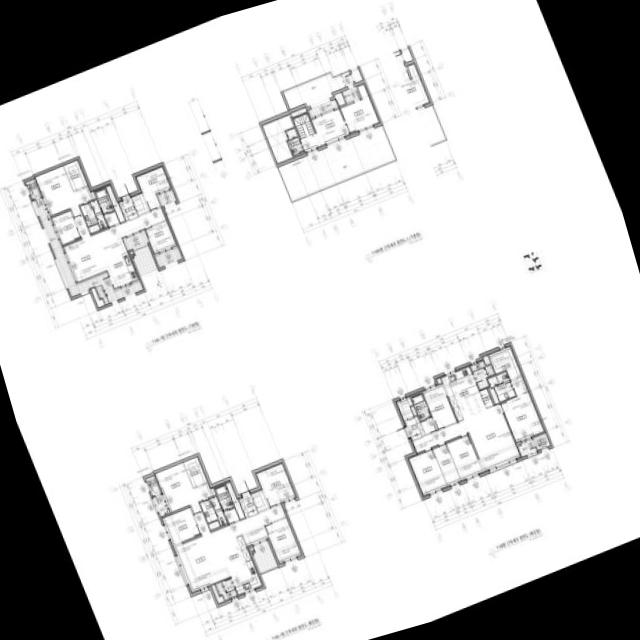background: (0, 0, 640, 640)
space_balconi: (32, 197, 142, 304), (251, 542, 277, 572), (131, 245, 157, 275), (154, 247, 181, 267), (308, 99, 337, 116), (214, 577, 236, 599), (124, 232, 146, 249), (152, 493, 168, 516), (517, 438, 536, 456), (341, 86, 359, 102), (158, 190, 176, 205)
space_bedroom: (34, 165, 92, 217), (154, 462, 212, 513), (500, 375, 544, 441), (339, 82, 379, 133), (255, 462, 295, 506), (408, 449, 446, 495), (264, 517, 301, 562), (446, 434, 482, 479), (135, 165, 170, 210), (422, 383, 456, 428), (162, 507, 200, 545), (144, 220, 176, 253), (51, 210, 80, 244)
space_dressroom: (488, 346, 521, 379), (63, 159, 87, 190), (183, 456, 207, 486)
space_front: (404, 415, 424, 440), (118, 195, 138, 220), (238, 494, 258, 516)
space_kitchen: (218, 535, 261, 594), (440, 366, 486, 420), (98, 238, 137, 287)
space_living_room: (173, 503, 285, 591), (61, 207, 166, 283), (411, 403, 519, 470), (300, 108, 348, 151)
space_other: (278, 125, 394, 199), (283, 72, 353, 108), (261, 113, 293, 163), (432, 443, 460, 485), (225, 481, 244, 518), (105, 185, 124, 222), (292, 112, 314, 138), (241, 525, 268, 546), (395, 396, 413, 420), (130, 192, 148, 214), (251, 489, 268, 511), (90, 287, 104, 307), (210, 584, 224, 603), (420, 417, 436, 433), (103, 211, 119, 227), (479, 388, 492, 407), (223, 507, 238, 523), (488, 386, 499, 403), (350, 68, 362, 82), (333, 91, 345, 105), (290, 106, 306, 116), (88, 223, 99, 233), (482, 354, 490, 364), (410, 405, 416, 415), (210, 487, 215, 495), (90, 190, 95, 198), (436, 377, 441, 383), (249, 546, 253, 550), (130, 250, 133, 254)
space_outdoor_room: (532, 432, 550, 450), (25, 178, 40, 199), (145, 475, 160, 495)
space_toilet: (199, 496, 226, 529), (487, 371, 515, 401), (79, 199, 106, 228), (470, 360, 494, 389), (411, 393, 430, 420), (214, 484, 233, 510), (94, 187, 113, 213), (285, 127, 303, 154)
